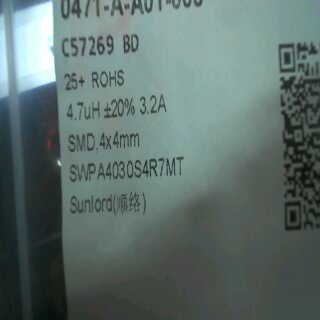4.7uH: (63, 100, 102, 127)
